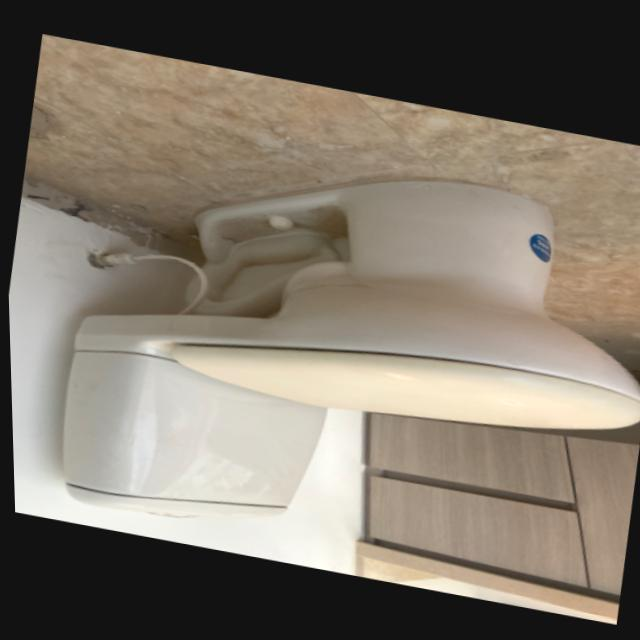toilet: (39, 112, 640, 602)
